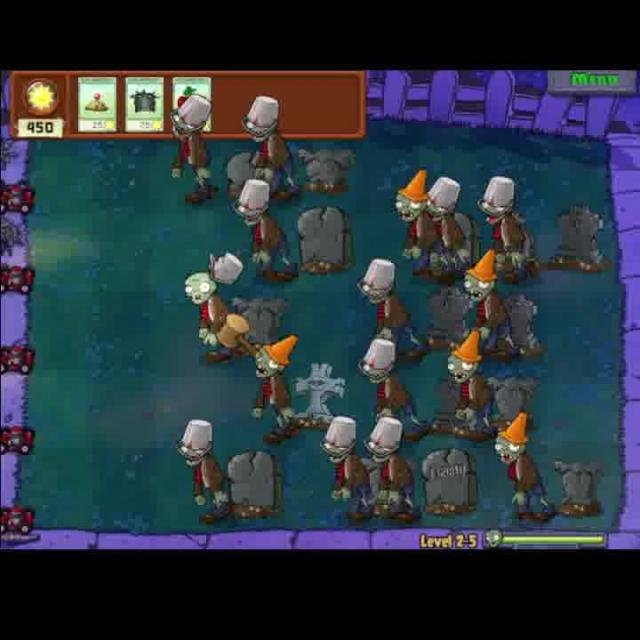coins: (230, 174, 298, 286), (489, 410, 552, 522), (440, 328, 502, 439), (352, 258, 419, 358), (171, 416, 233, 524), (419, 170, 478, 282), (164, 86, 218, 204), (242, 92, 300, 201), (317, 410, 369, 522), (355, 339, 416, 434), (182, 265, 238, 365), (250, 332, 304, 434), (479, 164, 524, 286), (460, 253, 513, 351), (372, 404, 413, 524), (393, 169, 435, 274)
